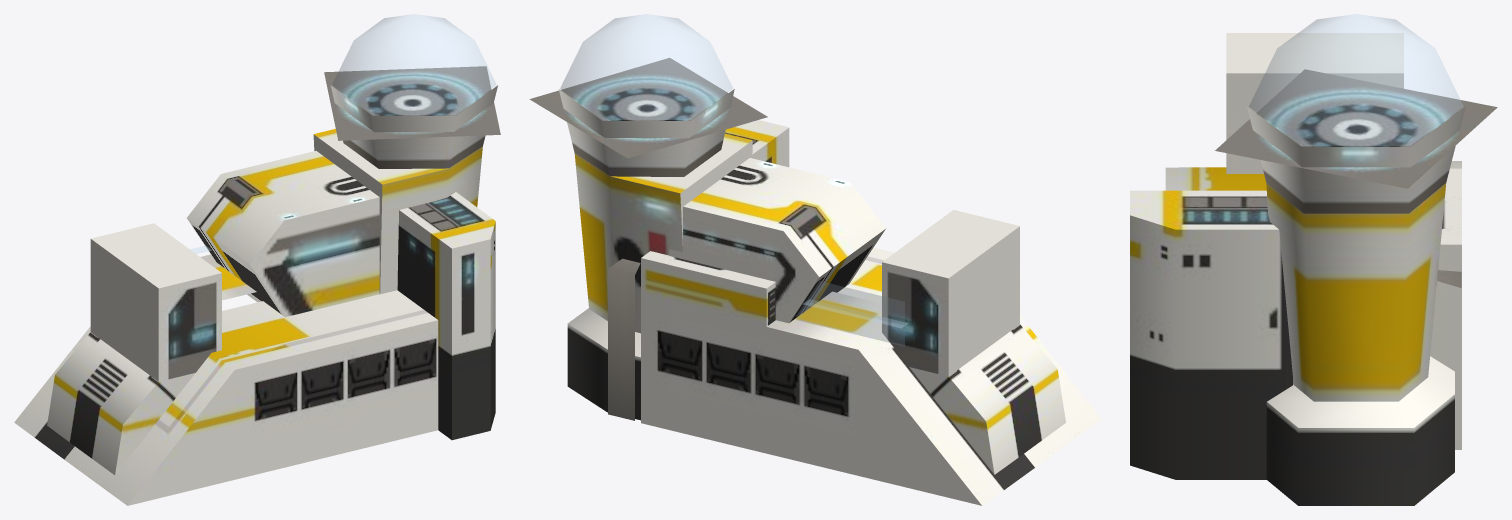
3 views of the same model, side by side, from view 1: azimuth 30°, elevation 25°; view 2: azimuth 150°, elevation 25°; view 3: azimuth 270°, elevation 25° (orthographic). The views are drawn at different scales.
Visible parts, largest first — view 1: chemical-plant-lod2; view 2: chemical-plant-lod2; view 3: chemical-plant-lod2.
Boxes of the visible parts, <box> form: chemical-plant-lod2: <box>14,14,500,505</box>; chemical-plant-lod2: <box>529,14,1101,505</box>; chemical-plant-lod2: <box>1130,14,1497,505</box>.
Size of the model in its own units: 9.65 by 7.17 by 5.21.
2 materials, 1 textured.
